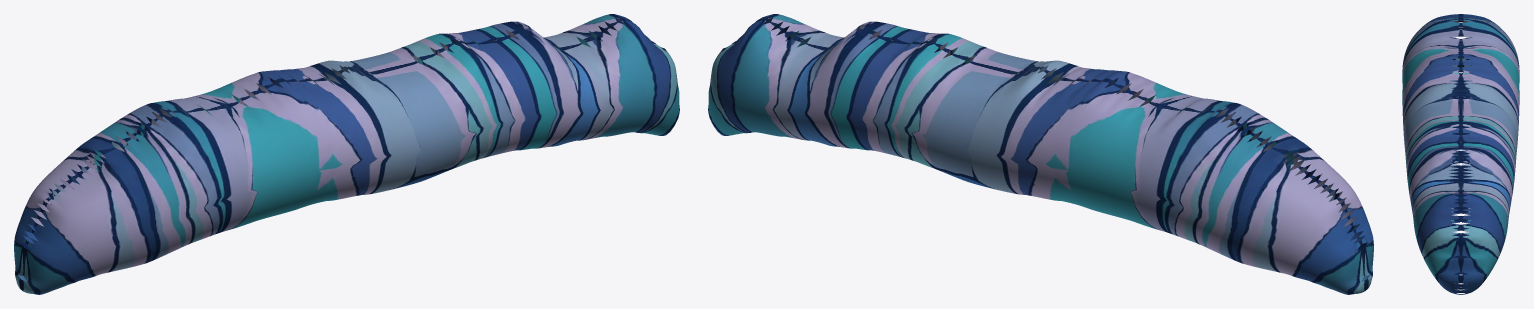
File: cavern_wall.glb
3 views of the same model, side by side, from view 1: azimuth 30°, elevation 25°; view 2: azimuth 150°, elevation 25°; view 3: azimuth 270°, elevation 25° (orthographic). The views are drawn at different scales.
Visible parts, largest first — view 1: cavern_wall; view 2: cavern_wall; view 3: cavern_wall.
Part boxes in pixels (x1,y1,x2,y2): cavern_wall: [14, 14, 679, 294]; cavern_wall: [708, 14, 1373, 294]; cavern_wall: [1402, 14, 1519, 294].
Size of the model in its own units: 0.989 by 0.22 by 0.2134.
Materials: 1 (1 with a texture image).
